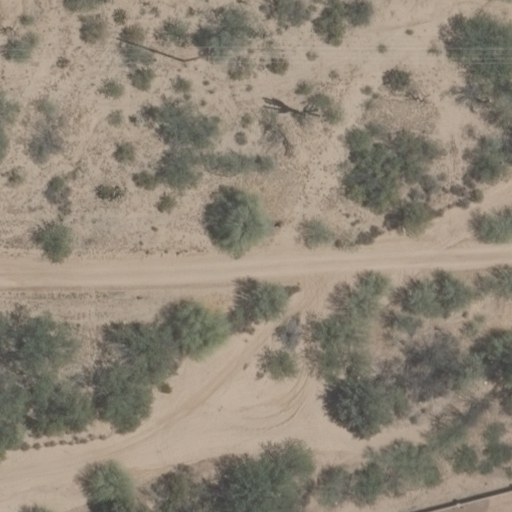DT: (185, 48, 211, 63)
